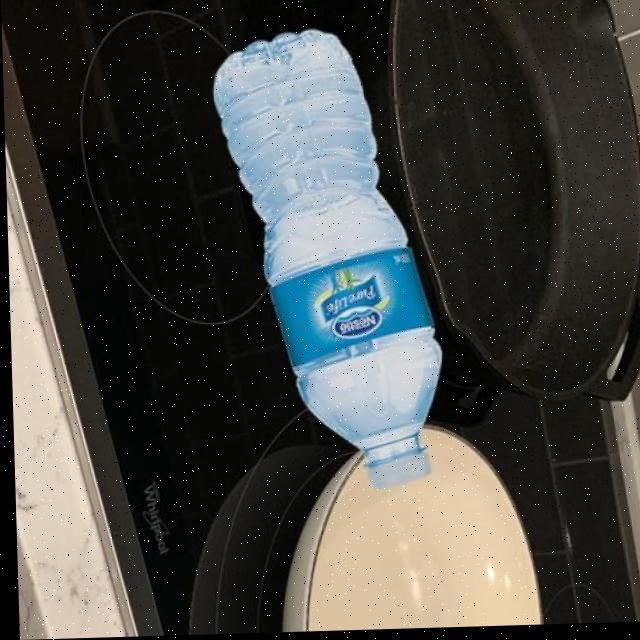bottle: (209, 26, 444, 495)
